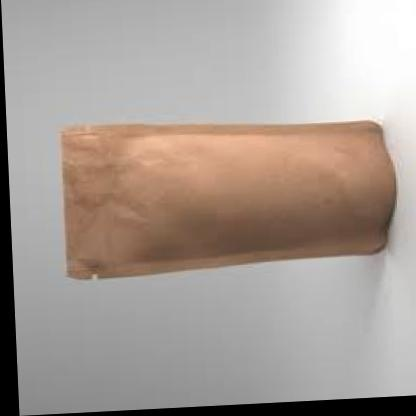trash: (62, 121, 395, 278)
